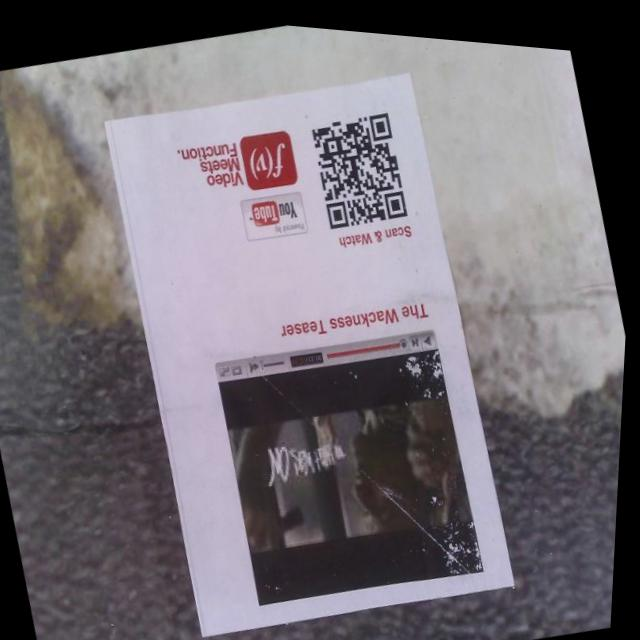qrcode: (307, 100, 413, 228)
